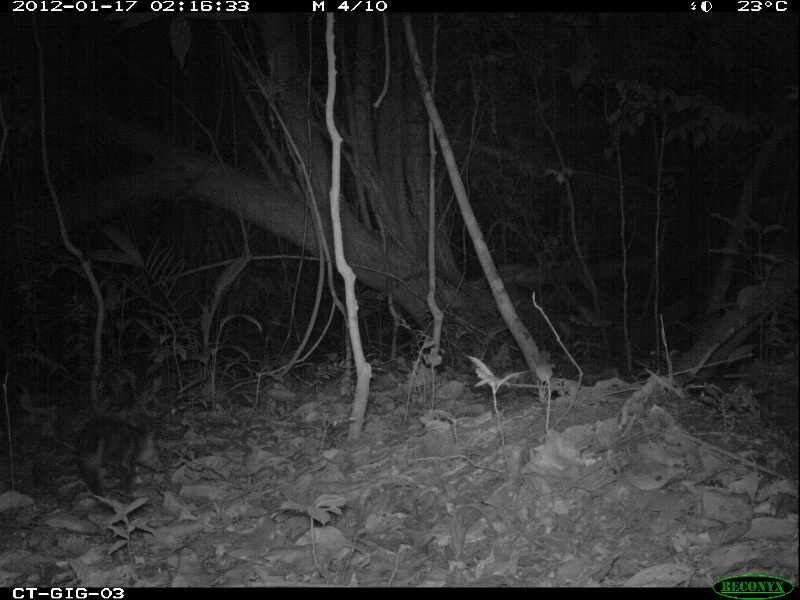opossum: (69, 408, 174, 501)
